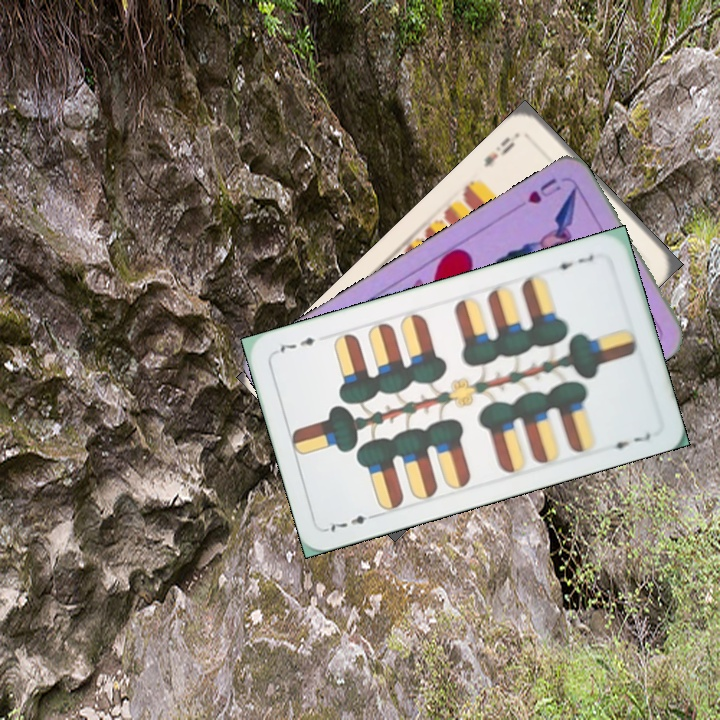E7: (323, 509, 381, 534), (548, 250, 597, 273)
E9: (479, 129, 522, 170)
HU: (523, 173, 564, 207)
